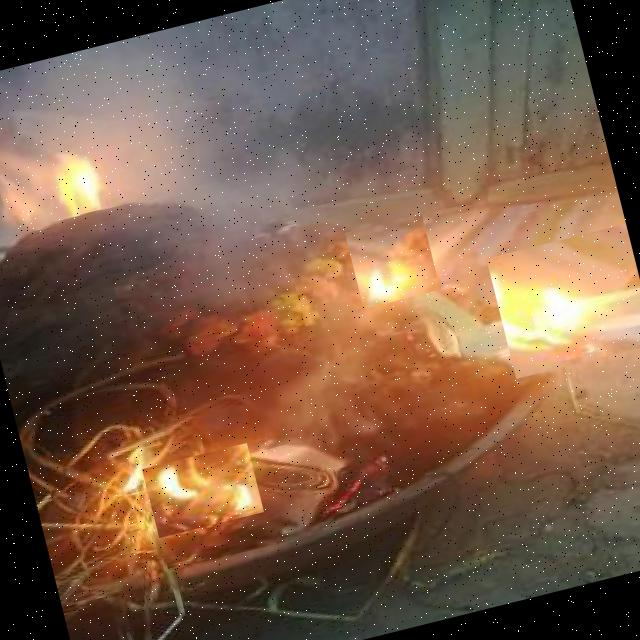fire: (486, 223, 640, 378), (142, 442, 264, 538), (344, 213, 440, 308), (40, 120, 112, 218)
